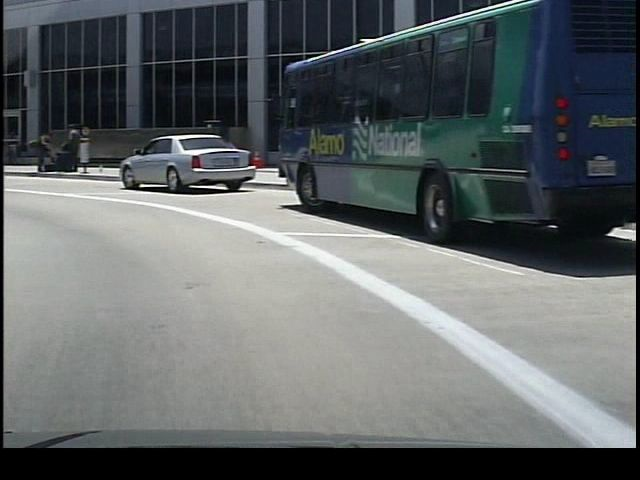person: (22, 125, 52, 179), (57, 123, 77, 177)
